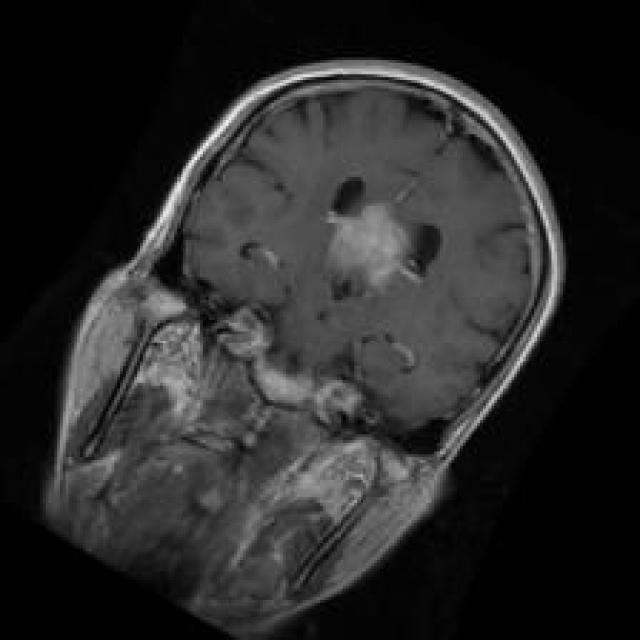meningioma_tumor: (326, 187, 418, 300)
